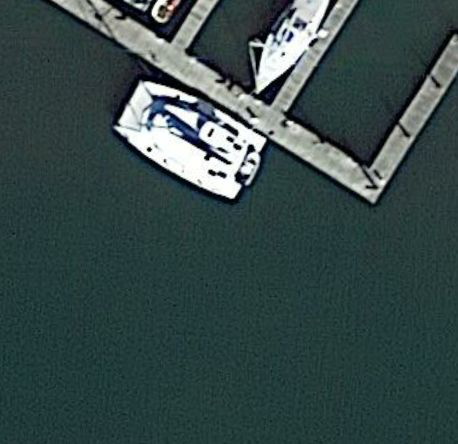boat: (107, 79, 270, 208), (249, 1, 337, 100)
